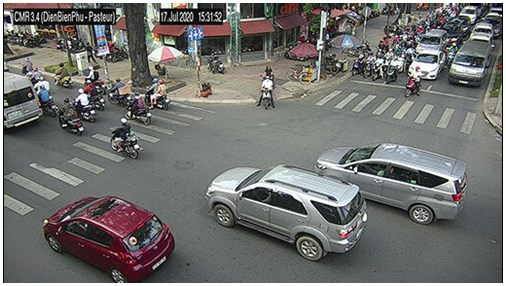xe_hoi: (203, 165, 367, 262), (315, 143, 468, 225), (42, 195, 175, 283), (409, 49, 446, 81), (418, 29, 447, 53), (470, 32, 493, 44), (460, 6, 476, 22), (474, 23, 494, 33)
xe_khach: (4, 71, 42, 131), (449, 39, 490, 87)
xe_may: (109, 118, 141, 159), (57, 97, 85, 136), (124, 91, 152, 125), (144, 76, 169, 111), (75, 86, 96, 123), (37, 84, 58, 117), (257, 74, 275, 109), (84, 64, 105, 94), (86, 81, 105, 112), (108, 78, 129, 105), (406, 66, 421, 98), (54, 62, 72, 88), (385, 56, 400, 82), (261, 63, 276, 87), (372, 53, 384, 80), (353, 50, 364, 77), (364, 52, 373, 80), (447, 42, 457, 67)
